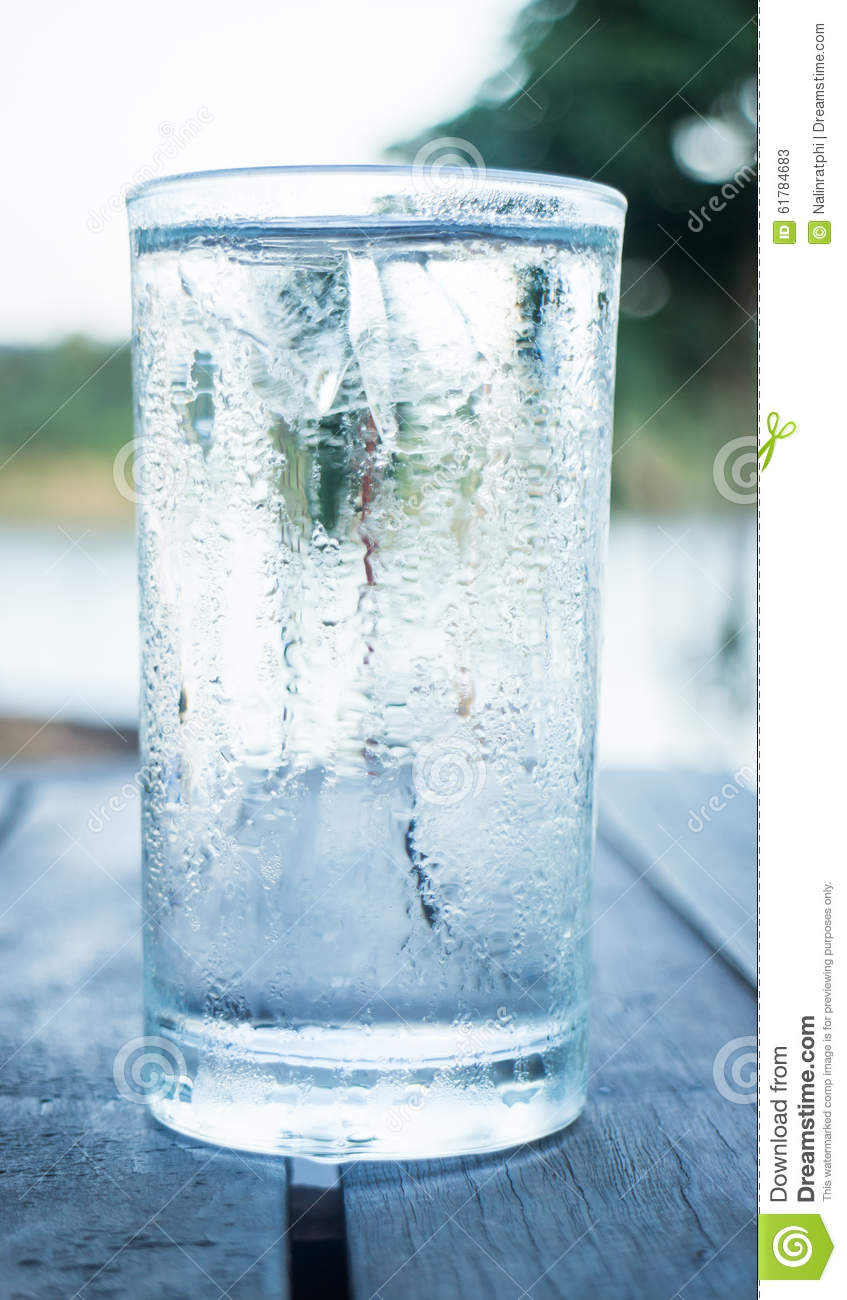glass of water: (142, 185, 584, 1141)
